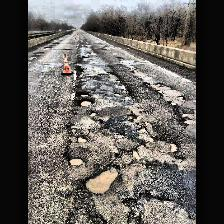pothole: (84, 164, 119, 194), (122, 197, 140, 223), (145, 82, 169, 90), (68, 158, 84, 166), (79, 99, 93, 107), (170, 142, 178, 154), (132, 150, 140, 160), (76, 136, 88, 142), (183, 118, 195, 124), (79, 91, 89, 97), (136, 126, 146, 132), (178, 94, 184, 100), (170, 100, 176, 106), (148, 136, 154, 142), (113, 92, 121, 96), (181, 113, 191, 116)
